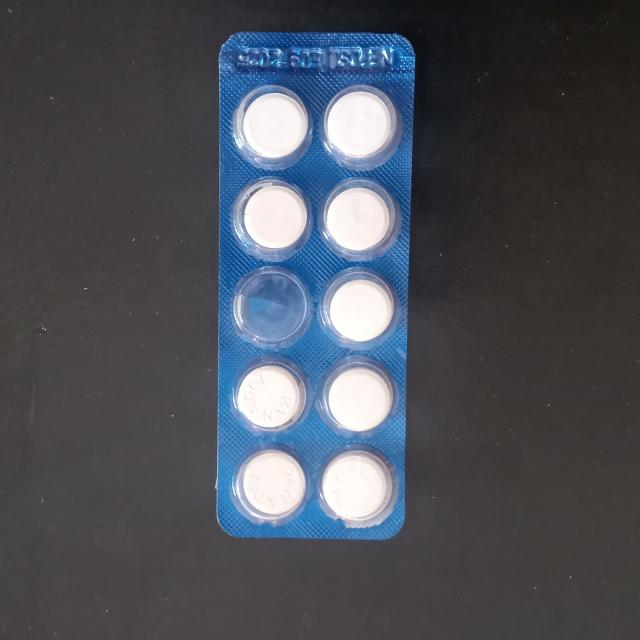defect: (226, 264, 320, 352)
